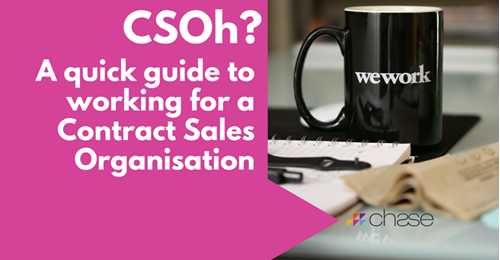wework: (354, 63, 433, 85)
